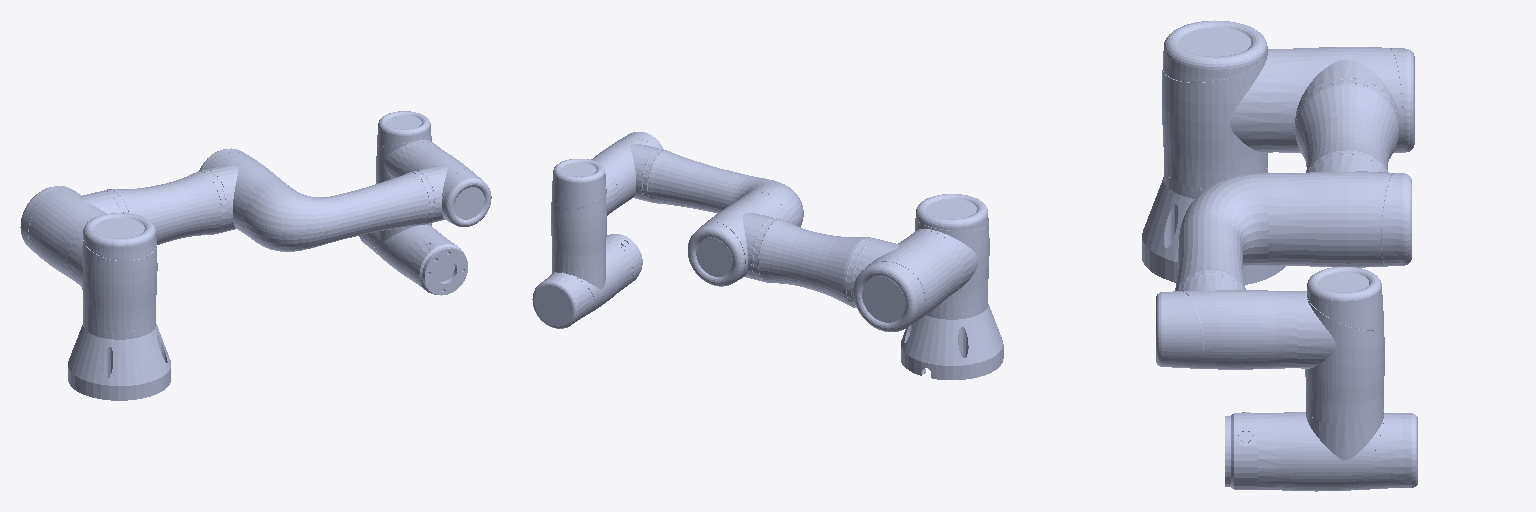
robot.urdf — lexium_digital_twin:
<?xml version="1.0" encoding="utf-8"?>
<!-- This URDF was automatically created by SolidWorks to URDF Exporter! Originally created by Stephen Brawner (brawner@gmail.com) 
     Commit Version: 1.6.0-4-g7f85cfe  Build Version: 1.6.7995.38578
     For more information, please see http://wiki.ros.org/sw_urdf_exporter -->
<robot
  name="lexium_digital_twin">
  <link
    name="base_link">
    <inertial>
      <origin
        xyz="-0.00153899088438138 1.78987042569454E-05 0.0511053058633545"
        rpy="0 0 0" />
      <mass
        value="0.460374564690923" />
      <inertia
        ixx="0.000634228805731141"
        ixy="-9.22181032529603E-08"
        ixz="-1.07985741207947E-05"
        iyy="0.000642978821322286"
        iyz="3.75430185192406E-07"
        izz="0.000822276994247443" />
    </inertial>
    <visual>
      <origin
        xyz="0 0 0"
        rpy="0 0 0" />
      <geometry>
        <mesh
          filename="package://lexium_digital_twin/meshes/base_link.STL" />
      </geometry>
      <material
        name="">
        <color
          rgba="0.792156862745098 0.819607843137255 0.933333333333333 1" />
      </material>
    </visual>
    <collision>
      <origin
        xyz="0 0 0"
        rpy="0 0 0" />
      <geometry>
        <mesh
          filename="package://lexium_digital_twin/meshes/base_link.STL" />
      </geometry>
    </collision>
  </link>

  <!--LINK 1-->

  <link
    name="Link_1">
    <inertial>
      <origin
        xyz="2.11210151604379E-07 -0.0032600383999371 0.0611467743193716"
        rpy="0 0 0" />
      <mass
        value="0.884295316293331" />
      <inertia
        ixx="0.00156595774591204"
        ixy="-3.1829281871681E-09"
        ixz="-9.70732401433376E-10"
        iyy="0.00150719780315971"
        iyz="8.90451940070508E-06"
        izz="0.00105380900533969" />
    </inertial>
    <visual>
      <origin
        xyz="0 0 0"
        rpy="0 0 0" />
      <geometry>
        <mesh
          filename="package://lexium_digital_twin/meshes/Link_1.STL" />
      </geometry>
      <material
        name="">
        <color
          rgba="0.792156862745098 0.819607843137255 0.933333333333333 1" />
      </material>
    </visual>
    <collision>
      <origin
        xyz="0 0 0"
        rpy="0 0 0" />
      <geometry>
        <mesh
          filename="package://lexium_digital_twin/meshes/Link_1.STL" />
      </geometry>
    </collision>
  </link>
  <joint
    name="Joint_1"
    type="revolute">
    <origin
      xyz="0 0 0.08605"
      rpy="0 0 -3.14159" />
    <parent
      link="base_link" />
    <child
      link="Link_1" />
    <axis
      xyz="0 0 1" />
    <limit
      lower="0"
      upper="0"
      effort="0"
      velocity="0" />
  </joint>

  <!--LINK 2-->

  <link
    name="Link_2">
    <inertial>
      <origin
        xyz="1.86433709318299E-07 -0.114019663029007 0.0611583268142885"
        rpy="0 0 0" />
      <mass
        value="2.32175993259425" />
      <inertia
        ixx="0.00457254131391827"
        ixy="-1.96574154576579E-08"
        ixz="9.40548052059898E-09"
        iyy="0.00325786932114449"
        iyz="-3.36892394579144E-06"
        izz="0.00351304152723721" />
    </inertial>
    <visual>
      <origin
        xyz="0 0 0"
        rpy="0 0 0" />
      <geometry>
        <mesh
          filename="package://lexium_digital_twin/meshes/Link_2.STL" />
      </geometry>
      <material
        name="">
        <color
          rgba="0.792156862745098 0.819607843137255 0.933333333333333 1" />
      </material>
    </visual>
    <collision>
      <origin
        xyz="0 0 0"
        rpy="0 0 0" />
      <geometry>
        <mesh
          filename="package://lexium_digital_twin/meshes/Link_2.STL" />
      </geometry>
    </collision>
  </link>
  <joint
    name="Joint_2"
    type="revolute">
    <origin
      xyz="0 -0.0505 0.0644999999999995"
      rpy="-1.5707963267949 1.5707963267949 3.14159265358979" />
    <parent
      link="Link_1" />
    <child
      link="Link_2" />
    <axis
      xyz="0 0 -1" />
    <limit
      lower="0"
      upper="0"
      effort="0"
      velocity="0" />
  </joint>

  <!--LINK 3-->

  <link
    name="Link_3">
    <inertial>
      <origin
        xyz="2.11022256919615E-07 -0.133284776639748 0.0409329396724559"
        rpy="0 0 0" />
      <mass
        value="1.20330042207005" />
      <inertia
        ixx="0.00386589755228367"
        ixy="4.32607128213095E-08"
        ixz="1.85903438289812E-10"
        iyy="0.00093811456880245"
        iyz="0.000336660411901458"
        izz="0.00362238013552109" />
    </inertial>
    <visual>
      <origin
        xyz="0 0 0"
        rpy="0 0 0" />
      <geometry>
        <mesh
          filename="package://lexium_digital_twin/meshes/Link_3.STL" />
      </geometry>
      <material
        name="">
        <color
          rgba="0.792156862745098 0.819607843137255 0.933333333333333 1" />
      </material>
    </visual>
    <collision>
      <origin
        xyz="0 0 0"
        rpy="0 0 0" />
      <geometry>
        <mesh
          filename="package://lexium_digital_twin/meshes/Link_3.STL" />
      </geometry>
    </collision>
  </link>
  <joint
    name="Joint_3"
    type="revolute">
    <origin
      xyz="0 -0.24600000094683 -0.00350000000001006"
      rpy="-3.14159265358979 0 -3.14159265358979" />
    <parent
      link="Link_2" />
    <child
      link="Link_3" />
    <axis
      xyz="0 0 1" />
    <limit
      lower="0"
      upper="0"
      effort="0"
      velocity="0" />
  </joint>

  <!--LINK 4-->

  <link
    name="Link_4">
    <inertial>
      <origin
        xyz="6.63581591882425E-07 0.0140954810950097 0.0384066562704616"
        rpy="0 0 0" />
      <mass
        value="0.493200863231089" />
      <inertia
        ixx="0.000501550219737654"
        ixy="-3.21596725516391E-10"
        ixz="7.73858274783939E-09"
        iyy="0.000324066408173854"
        iyz="-6.21495450181184E-05"
        izz="0.000479035823680177" />
    </inertial>
    <visual>
      <origin
        xyz="0 0 0"
        rpy="0 0 0" />
      <geometry>
        <mesh
          filename="package://lexium_digital_twin/meshes/Link_4.STL" />
      </geometry>
      <material
        name="">
        <color
          rgba="0.792156862745098 0.819607843137255 0.933333333333333 1" />
      </material>
    </visual>
    <collision>
      <origin
        xyz="0 0 0"
        rpy="0 0 0" />
      <geometry>
        <mesh
          filename="package://lexium_digital_twin/meshes/Link_4.STL" />
      </geometry>
    </collision>
  </link>
  <joint
    name="Joint_4"
    type="revolute">
    <origin
      xyz="0 -0.228000000001584 -0.0244999999969376"
      rpy="-3.14159265356148 0 -1.5707963267949" />
    <parent
      link="Link_3" />
    <child
      link="Link_4" />
    <axis
      xyz="0 0 -1" />
    <limit
      lower="0"
      upper="0"
      effort="0"
      velocity="0" />
  </joint>

  <!--LINK 5-->

  <link
    name="Link_5">
    <inertial>
      <origin
        xyz="-2.19383742788647E-06 -0.00676921996752099 0.0385949901802433"
        rpy="0 0 0" />
      <mass
        value="0.55156964581296" />
      <inertia
        ixx="0.00101051555001167"
        ixy="1.61103782987192E-09"
        ixz="-1.04472007475205E-08"
        iyy="0.000360478219660431"
        iyz="1.65612456860953E-05"
        izz="0.000981985301860736" />
    </inertial>
    <visual>
      <origin
        xyz="0 0 0"
        rpy="0 0 0" />
      <geometry>
        <mesh
          filename="package://lexium_digital_twin/meshes/Link_5.STL" />
      </geometry>
      <material
        name="">
        <color
          rgba="0.792156862745098 0.819607843137255 0.933333333333333 1" />
      </material>
    </visual>
    <collision>
      <origin
        xyz="0 0 0"
        rpy="0 0 0" />
      <geometry>
        <mesh
          filename="package://lexium_digital_twin/meshes/Link_5.STL" />
      </geometry>
    </collision>
  </link>
  <joint
    name="Joint_5"
    type="revolute">
    <origin
      xyz="0 0.0760000000011137 0.0414999999977316"
      rpy="1.57079632682321 0 -3.14159265358979" />
    <parent
      link="Link_4" />
    <child
      link="Link_5" />
    <axis
      xyz="0 0 1" />
    <limit
      lower="0"
      upper="0"
      effort="0"
      velocity="0" />
  </joint>

  <!--LINK 6-->

  <link
    name="Link_6">
    <inertial>
      <origin
        xyz="2.04521118006405E-05 -5.00312640405731E-05 0.0134113824379624"
        rpy="0 0 0" />
      <mass
        value="0.0951327910810692" />
      <inertia
        ixx="3.36064368849105E-05"
        ixy="2.00195929980298E-07"
        ixz="3.17141866321017E-08"
        iyy="3.36666169020005E-05"
        iyz="8.89684072947432E-08"
        izz="5.51967331435198E-05" />
    </inertial>
    <visual>
      <origin
        xyz="0 0 0"
        rpy="0 0 0" />
      <geometry>
        <mesh
          filename="package://lexium_digital_twin/meshes/Link_6.STL" />
      </geometry>
      <material
        name="">
        <color
          rgba="0.792156862745098 0.819607843137255 0.933333333333333 1" />
      </material>
    </visual>
    <collision>
      <origin
        xyz="0 0 0"
        rpy="0 0 0" />
      <geometry>
        <mesh
          filename="package://lexium_digital_twin/meshes/Link_6.STL" />
      </geometry>
    </collision>
  </link>
  <joint
    name="Joint_6"
    type="revolute">
    <origin
      xyz="0 -0.0760000000025846 0.0414999999985123"
      rpy="-1.5707963267949 0.785398163 -3.14159265358979" />
    <parent
      link="Link_5" />
    <child
      link="Link_6" />
    <axis
      xyz="0 0 1" />
    <limit
      lower="0"
      upper="0"
      effort="0"
      velocity="0" />
  </joint>
</robot>

--- Render facts (derived) ---
The picture shows the robot from 3 angles, left to right: view 1: azimuth 30°, elevation 25°; view 2: azimuth 150°, elevation 25°; view 3: azimuth 270°, elevation 25°; orthographic projection.
Model lexium_digital_twin with 7 links and 6 joints (6 revolute), rooted at base_link, posed every joint at zero.
Visible links, largest first — view 1: Link_3, Link_2, Link_1, base_link, Link_4, Link_6, Link_5; view 2: Link_2, Link_3, base_link, Link_4, Link_1, Link_5, Link_6; view 3: Link_2, Link_3, Link_1, Link_4, Link_5, base_link, Link_6.
Link boxes in pixels (left/top/right/bottom): Link_3: left=244, top=142, right=491, bottom=251; Link_2: left=20, top=148, right=288, bottom=280; Link_1: left=68, top=213, right=157, bottom=331; base_link: left=68, top=318, right=170, bottom=400; Link_4: left=376, top=111, right=435, bottom=183; Link_6: left=411, top=238, right=467, bottom=295; Link_5: left=359, top=223, right=447, bottom=283; Link_2: left=688, top=192, right=962, bottom=331; Link_3: left=591, top=132, right=803, bottom=226; base_link: left=901, top=299, right=1003, bottom=379; Link_4: left=551, top=159, right=618, bottom=268; Link_1: left=911, top=194, right=989, bottom=311; Link_5: left=532, top=240, right=632, bottom=328; Link_6: left=606, top=234, right=642, bottom=284; Link_2: left=1269, top=47, right=1414, bottom=267; Link_3: left=1156, top=173, right=1296, bottom=369; Link_1: left=1162, top=20, right=1272, bottom=188; Link_4: left=1297, top=267, right=1384, bottom=424; Link_5: left=1258, top=410, right=1417, bottom=491; base_link: left=1142, top=168, right=1285, bottom=284; Link_6: left=1225, top=412, right=1257, bottom=489.
Size in the robot's own frame: 0.5735 by 0.2414 by 0.2115 metres.
7 mesh visuals loaded from 7 distinct referenced files (7 binary STL).
